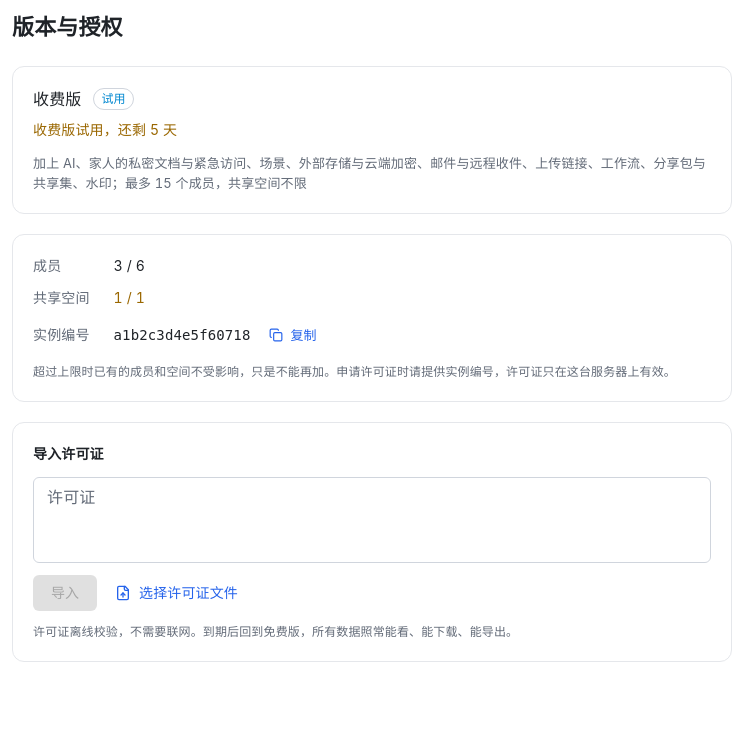
EditionPanel › 显示试用剩余天数、用量和实例编号；导入许可证后显示企业版
The width and height of the screenshot is (749, 731).
Expected: the text "收费版试用，还剩 5 天" is shown, x1=33 y1=121 x2=177 y2=138
Expected: the text "3 / 6" is shown, x1=114 y1=257 x2=145 y2=274
Type "KEPT1.abc.def" into the text box labelled "许可证".
click(372, 520); type("KEPT1.abc.def")  # box x1=47 y1=486 x2=697 y2=554
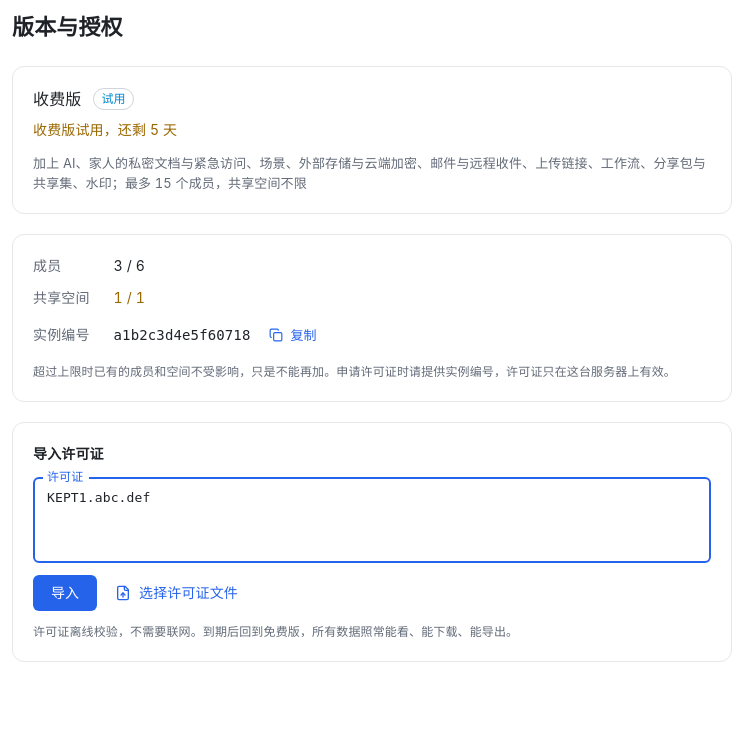
Click the button "导入".
click(65, 593)  # box x1=33 y1=575 x2=97 y2=611
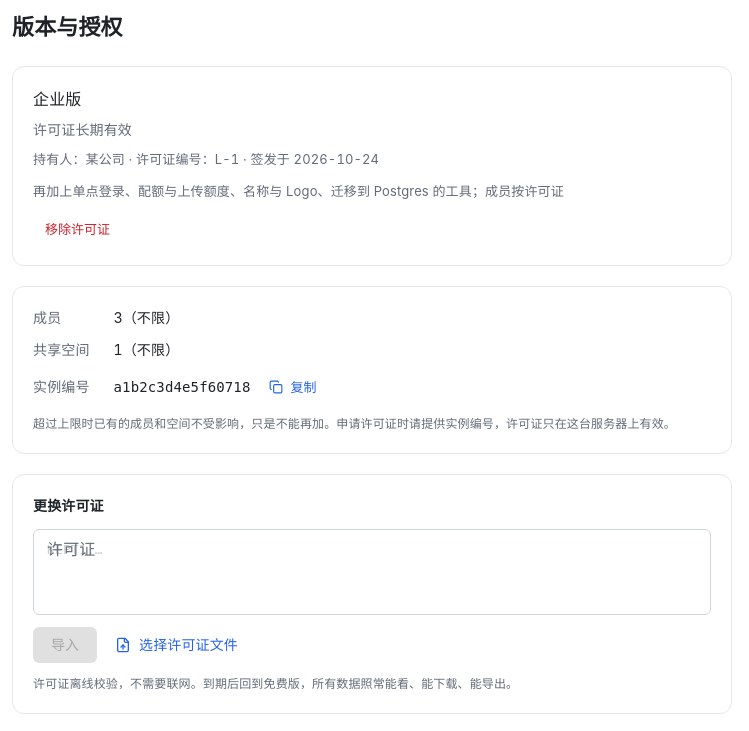
Now the text "许可证长期有效" is shown, box x1=33 y1=121 x2=132 y2=138
Now the text "持有人：某公司 · 许可证编号：L-1 · 签发于 2026-10-24" is shown, box x1=33 y1=151 x2=379 y2=167
Now the text "3（不限）" is shown, box x1=114 y1=309 x2=179 y2=326
